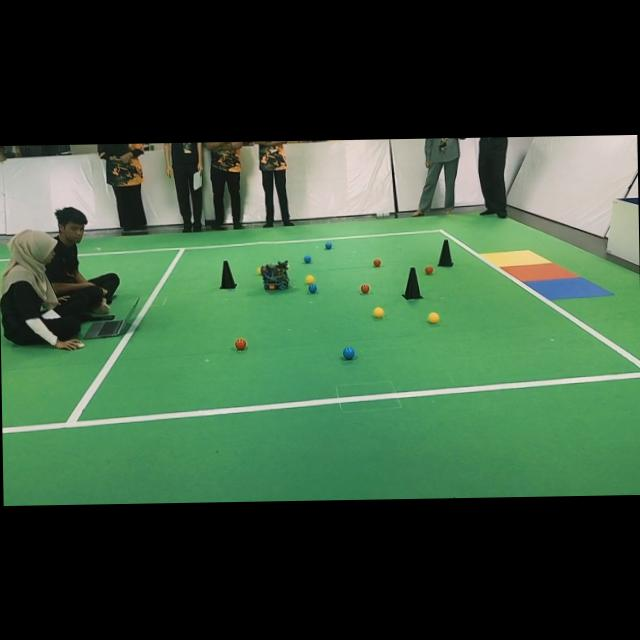ball: (342, 346, 356, 360), (234, 338, 247, 350), (372, 306, 384, 318), (427, 312, 440, 323), (304, 274, 314, 284), (359, 283, 369, 293), (424, 264, 434, 274), (308, 283, 317, 293), (303, 254, 311, 262), (325, 241, 332, 250), (373, 258, 380, 267), (257, 266, 260, 274)
goal: (526, 277, 612, 300), (503, 262, 579, 281), (481, 249, 550, 267)
